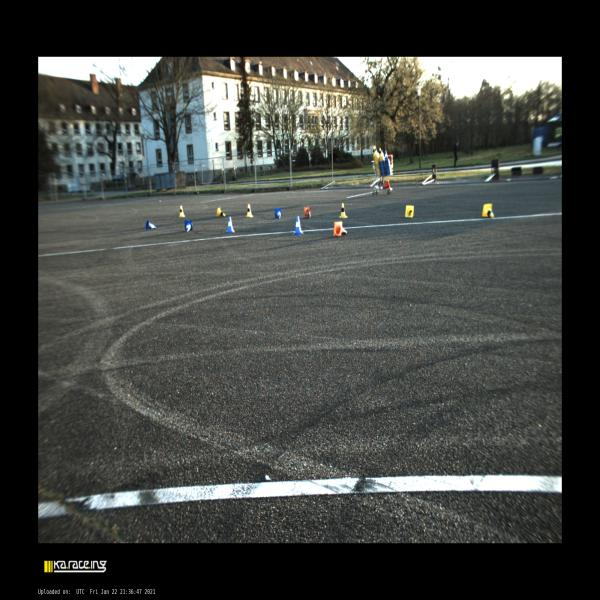blue_cone: (292, 216, 304, 235), (226, 217, 234, 233), (184, 219, 193, 232), (146, 220, 156, 230), (274, 208, 282, 218)
orange_cone: (334, 221, 347, 236), (304, 207, 312, 219)
yellow_cone: (482, 204, 494, 218), (338, 203, 347, 218), (405, 205, 414, 217), (246, 204, 253, 217), (216, 208, 226, 217), (180, 205, 184, 217)
